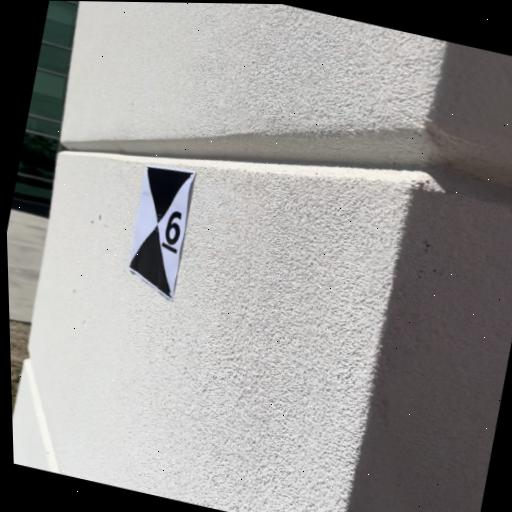target6: (128, 168, 196, 301)
